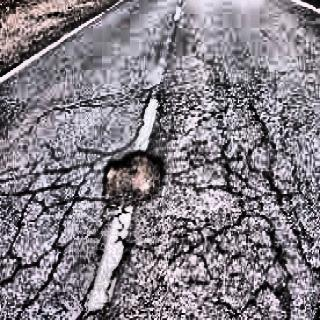alligator-crack: (3, 81, 316, 320)
pothole: (100, 148, 166, 212)
